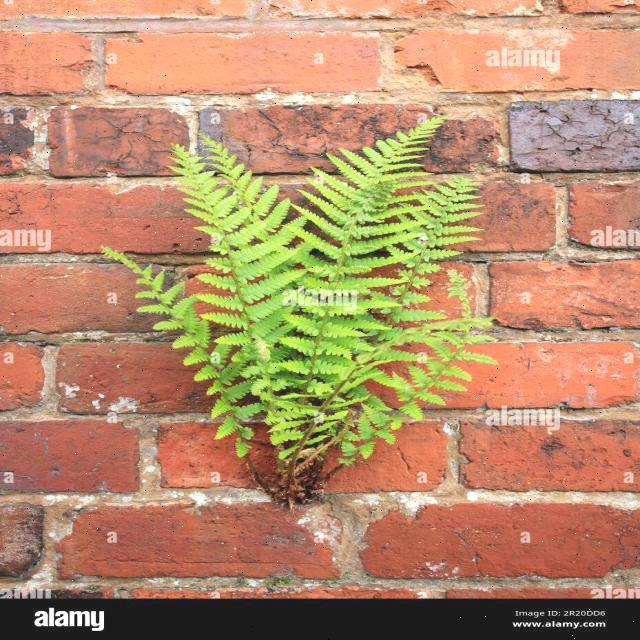crack: (0, 12, 623, 40), (89, 35, 110, 94)
dampness: (10, 2, 638, 226), (2, 348, 177, 587), (0, 138, 187, 360), (5, 30, 403, 97)
vegetation: (99, 113, 499, 509), (442, 0, 633, 594)
